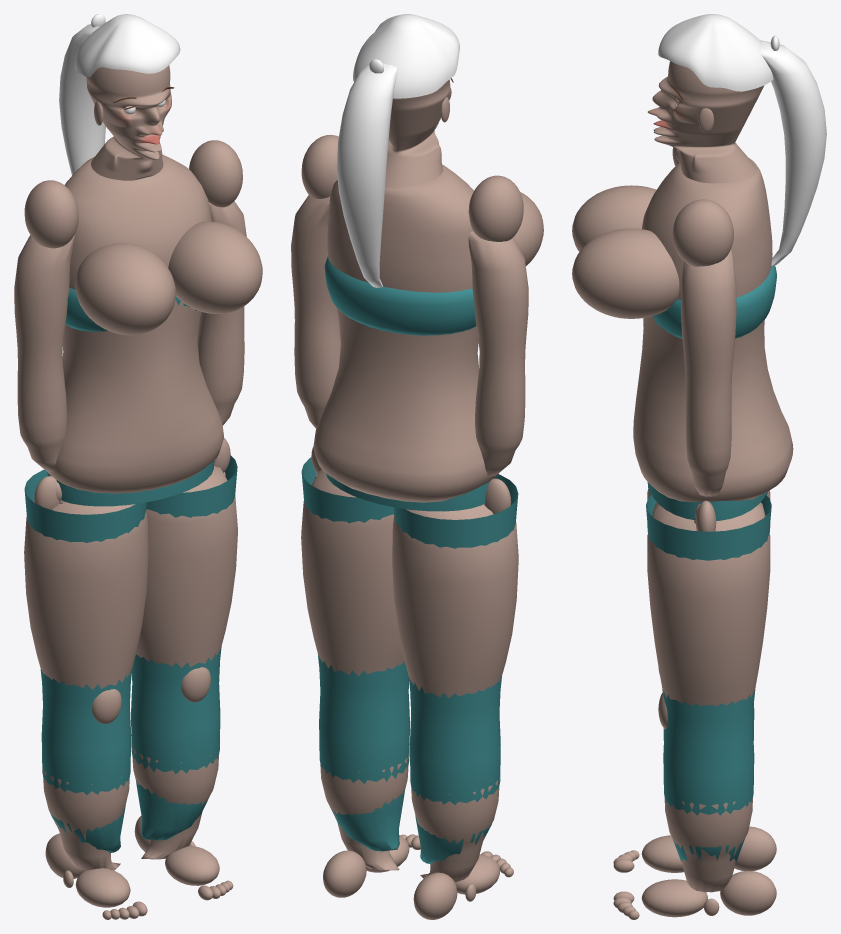
The model's file is female_natural.glb.
3 renders of one model, left to right at view 1: azimuth 30°, elevation 25°; view 2: azimuth 150°, elevation 25°; view 3: azimuth 270°, elevation 25°, orthographic.
Parts seen in each view (by area): view 1: Body_female_natural, Garment_Leggings, Hair_ponytail, Garment_Top; view 2: Body_female_natural, Garment_Leggings, Hair_ponytail, Garment_Top; view 3: Body_female_natural, Garment_Leggings, Hair_ponytail, Garment_Top.
Boxes of the visible parts, x1,y1,x2,y2 form: Body_female_natural: [14, 65, 262, 919]; Garment_Leggings: [24, 455, 237, 853]; Hair_ponytail: [59, 14, 180, 175]; Garment_Top: [65, 288, 196, 331]; Body_female_natural: [291, 79, 543, 919]; Garment_Leggings: [301, 457, 518, 864]; Hair_ponytail: [336, 14, 459, 287]; Garment_Top: [324, 256, 476, 335]; Body_female_natural: [572, 61, 793, 919]; Garment_Leggings: [646, 482, 771, 861]; Hair_ponytail: [658, 14, 826, 265]; Garment_Top: [653, 257, 776, 338].
Size of the model in its own units: 0.4824 by 1.75 by 0.4624.
